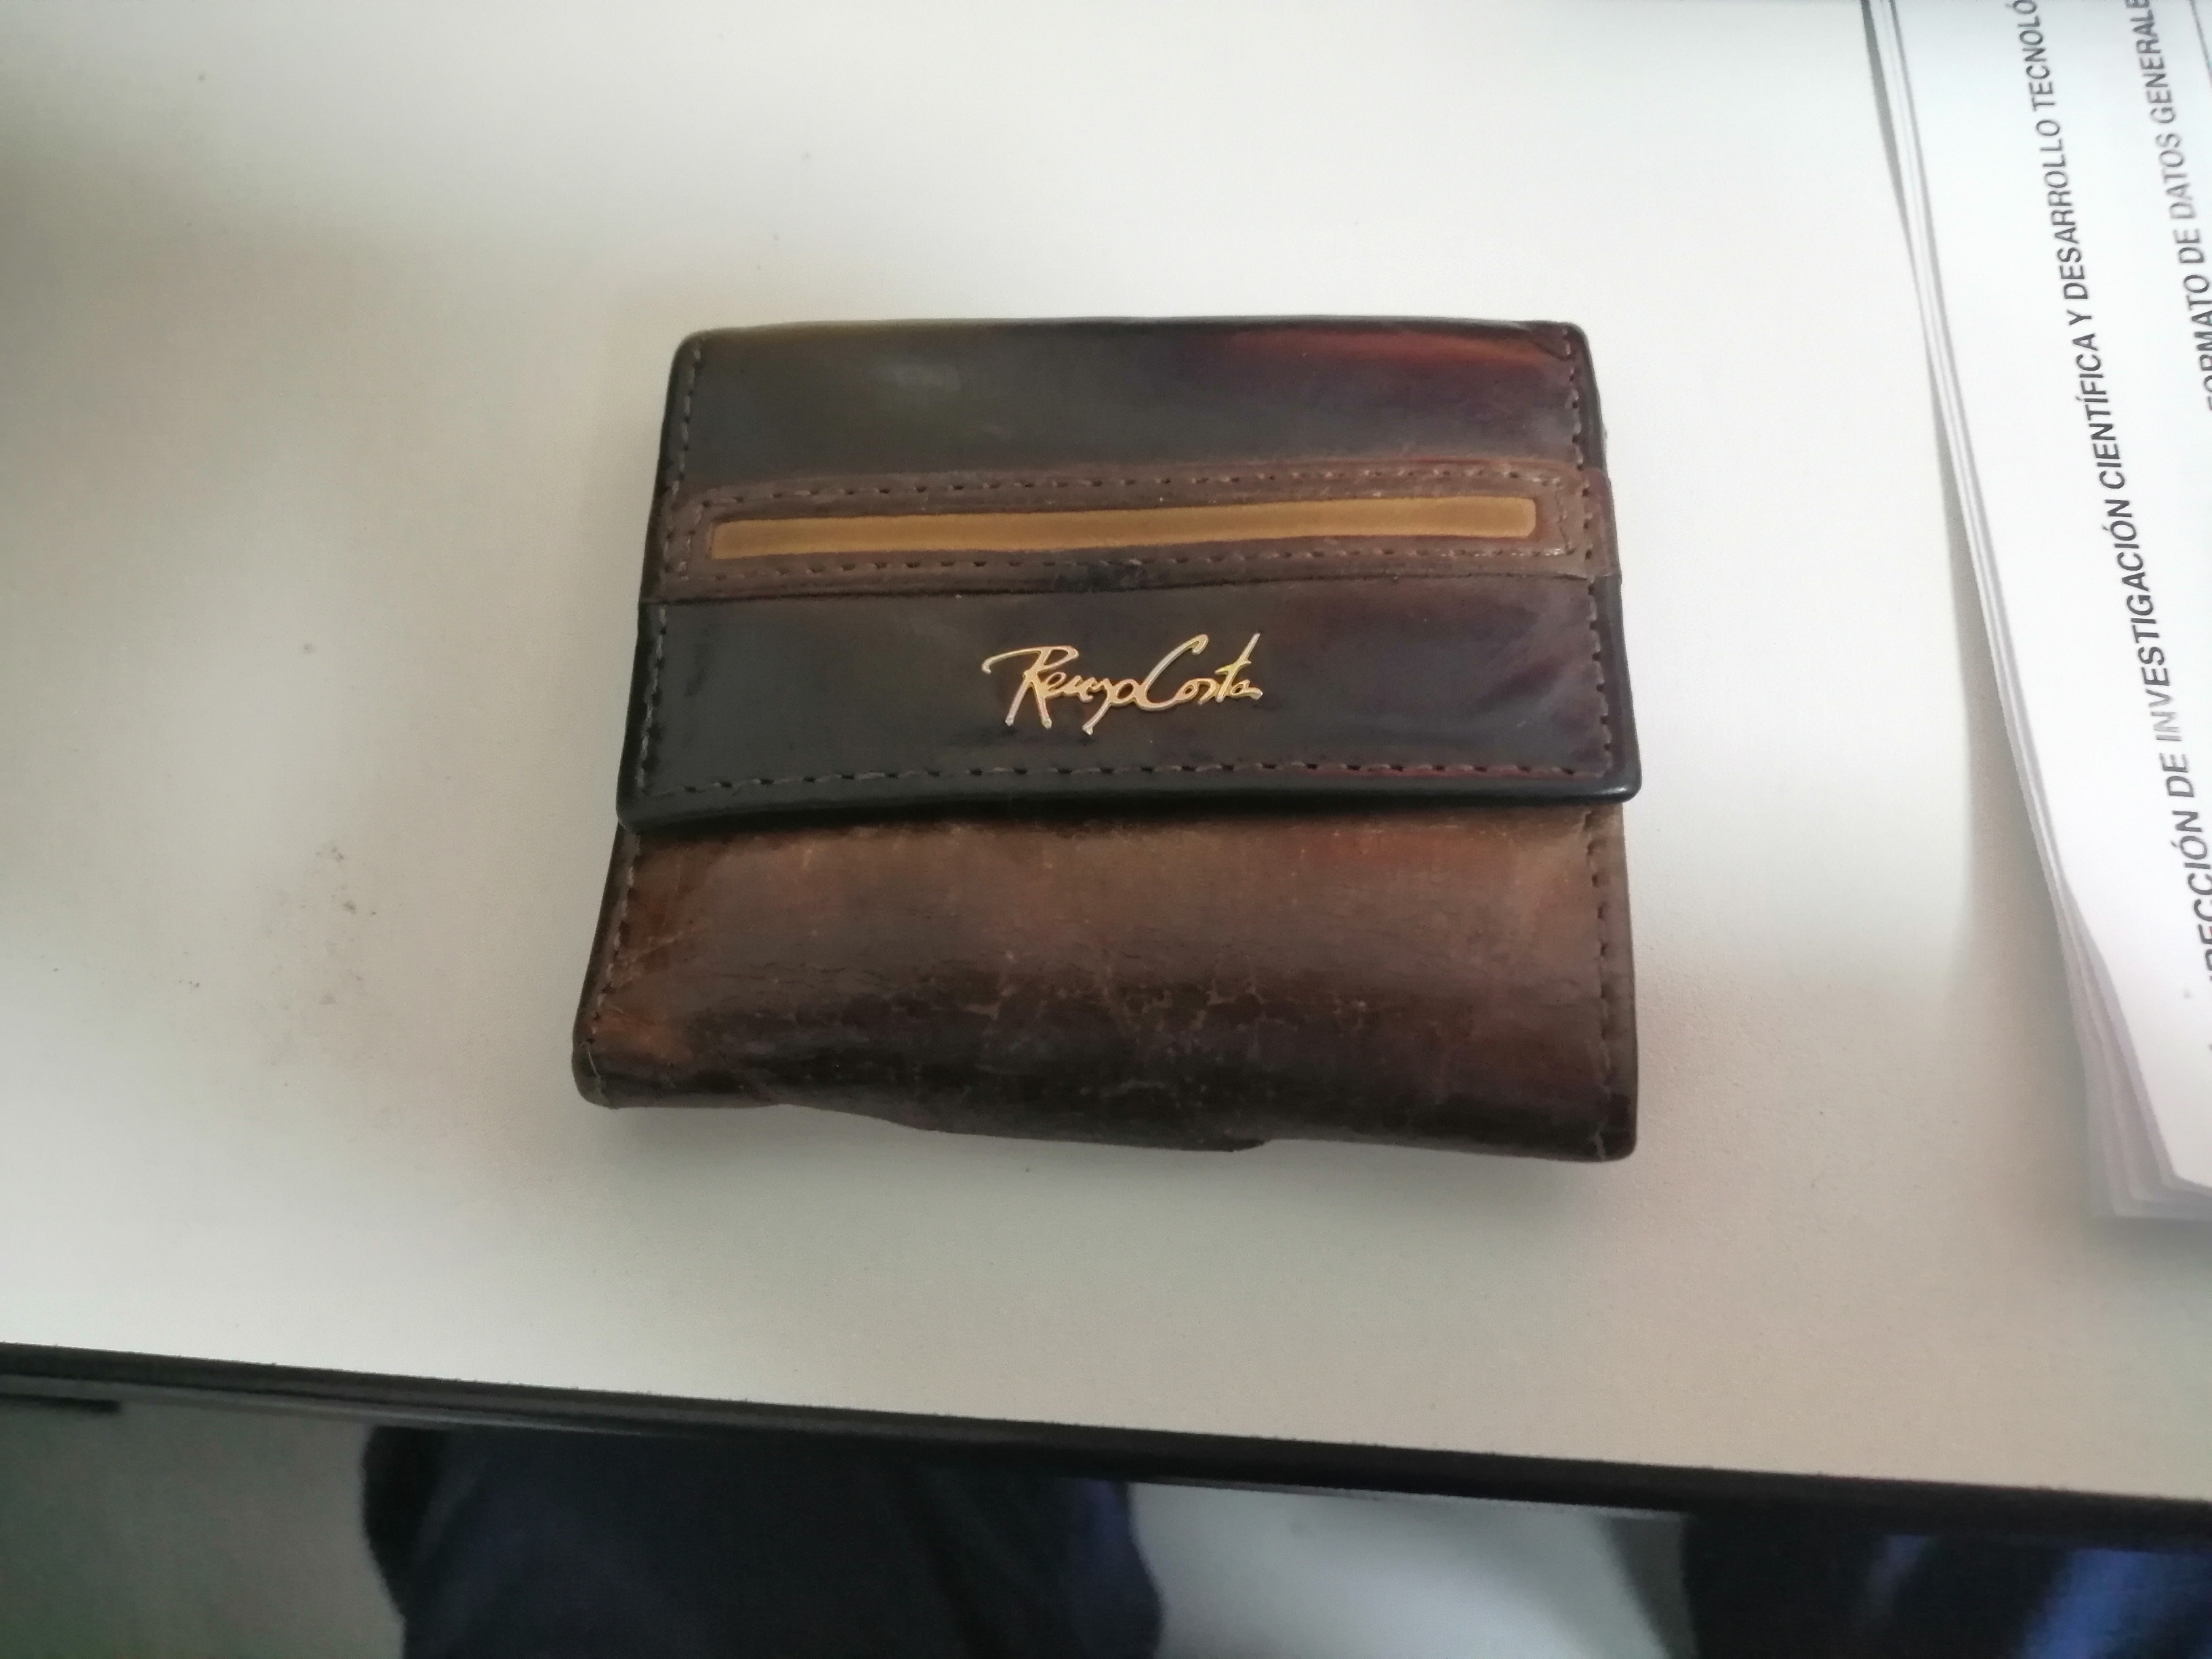monedero: (547, 298, 1681, 1178)
